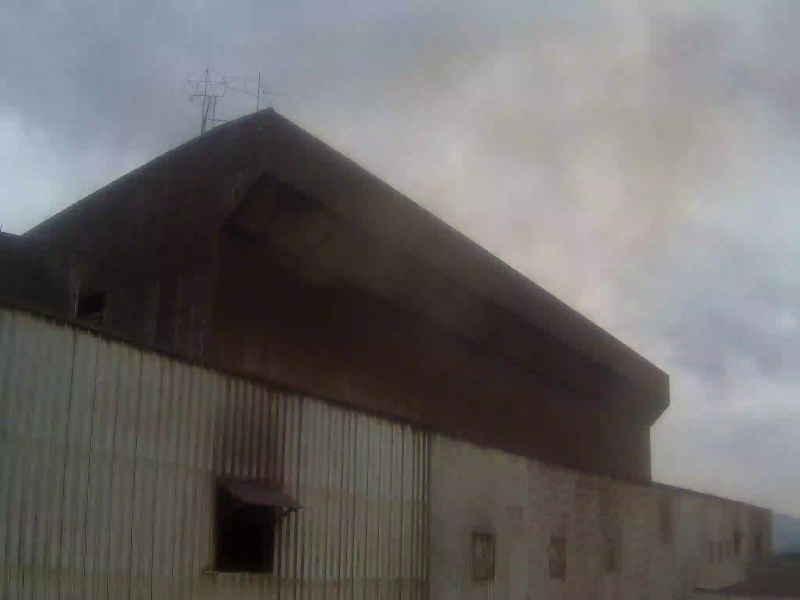Ruim: (420, 22, 702, 240)
